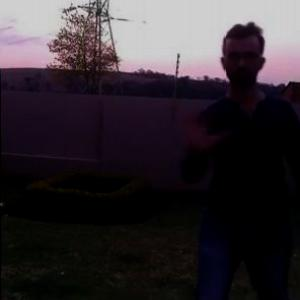follow_hand: (176, 104, 232, 155)
